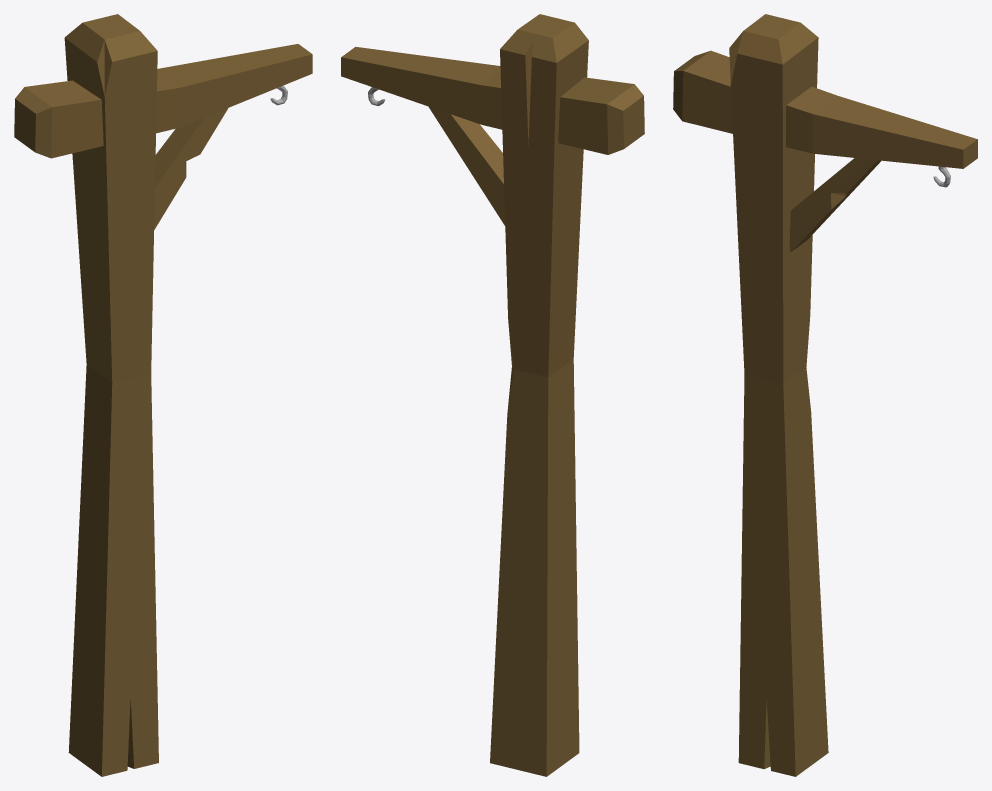
File: lamp_post_2.glb
The picture shows the model from 3 angles, left to right: view 1: azimuth 30°, elevation 25°; view 2: azimuth 150°, elevation 25°; view 3: azimuth 330°, elevation 25°; orthographic projection.
Parts seen in each view (by area): view 1: Cube, Cube.001, Cube.002; view 2: Cube, Cube.001, Cube.002; view 3: Cube, Cube.001, Cube.002.
Part boxes in pixels (<box>): Cube: <box>64,14,158,776</box>; Cube.001: <box>14,44,312,158</box>; Cube.002: <box>154,108,228,230</box>; Cube: <box>490,14,588,776</box>; Cube.001: <box>341,46,644,154</box>; Cube.002: <box>429,107,505,225</box>; Cube: <box>729,14,828,776</box>; Cube.001: <box>673,50,977,168</box>; Cube.002: <box>789,158,881,251</box>.
Size of the model in its own units: 1.65 by 4.07 by 0.39.
